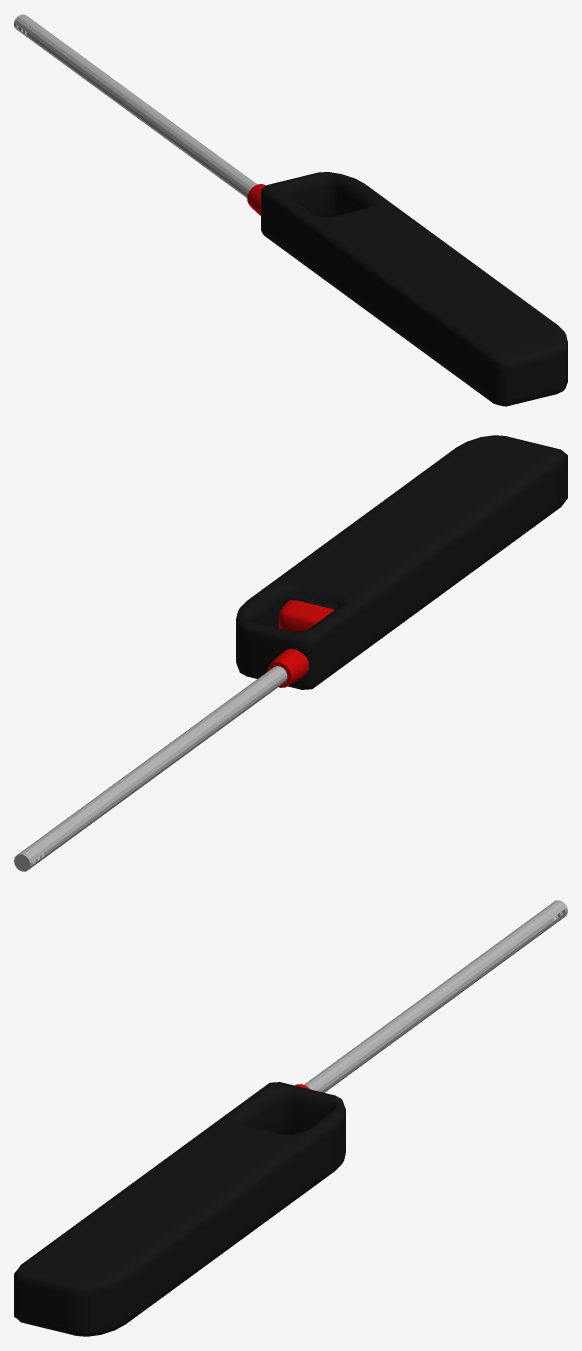
File: Lighter.fbx
The picture shows the model from 3 angles, top to bottom: view 1: azimuth 30°, elevation 25°; view 2: azimuth 150°, elevation 25°; view 3: azimuth 330°, elevation 25°; orthographic projection. The views are drawn at different scales.
Visible parts, largest first — view 1: pCube1, pCylinder1; view 2: pCube1, pCylinder1, pCube1.001; view 3: pCube1, pCylinder1.
Part boxes in pixels (x1=…): pCube1: x1=261, y1=172, x2=567, y2=406; pCylinder1: x1=14, y1=14, x2=265, y2=215; pCube1: x1=236, y1=435, x2=567, y2=689; pCylinder1: x1=14, y1=648, x2=308, y2=871; pCube1.001: x1=278, y1=600, x2=334, y2=631; pCube1: x1=14, y1=1082, x2=345, y2=1336; pCylinder1: x1=295, y1=900, x2=567, y2=1092.
Size of the model in its own units: 1.43 by 0.7949 by 14.39.
